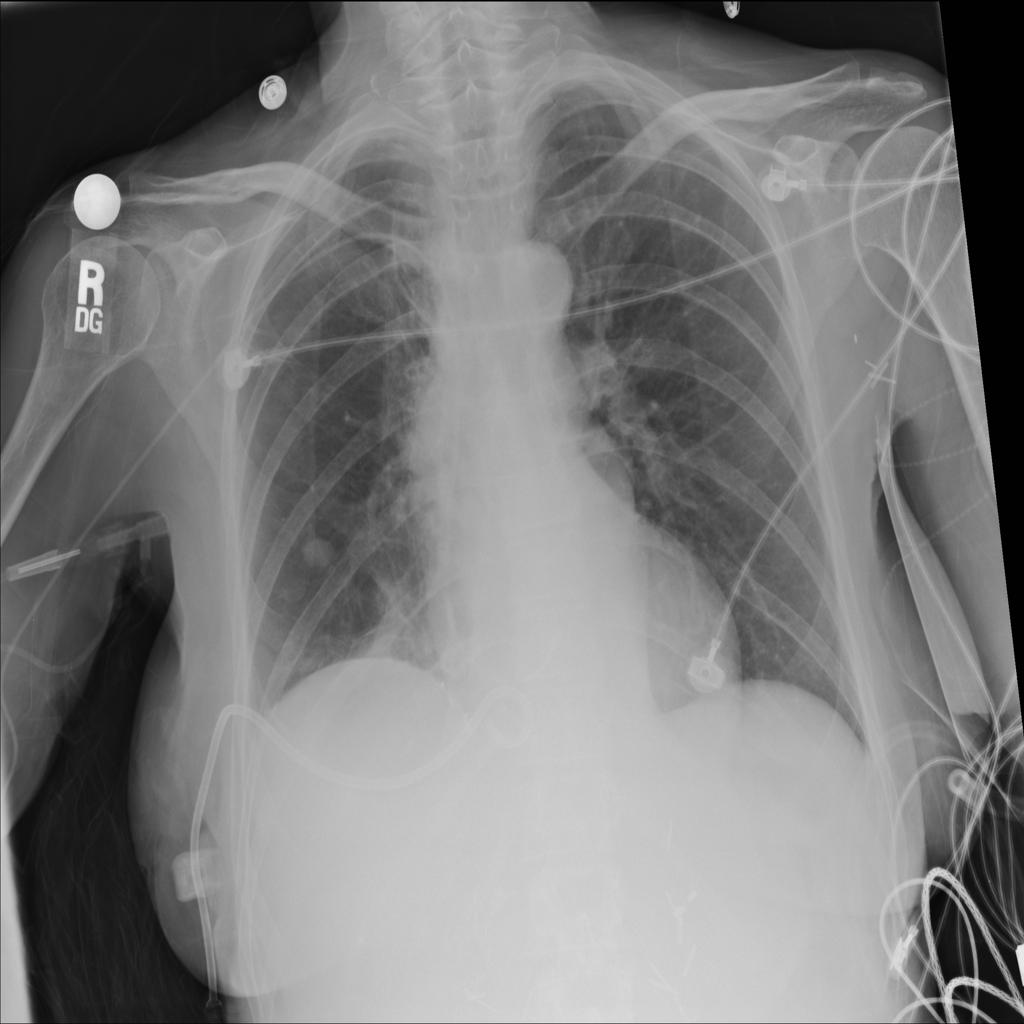nodule: (290, 526, 340, 581)
